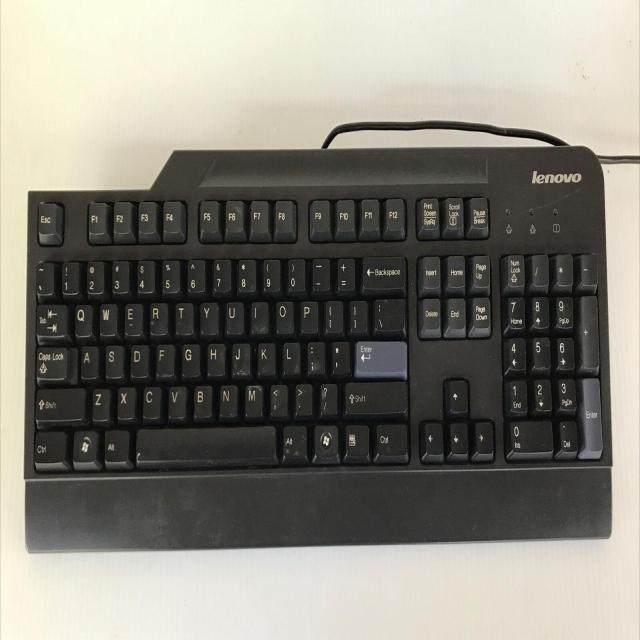keyboard: (22, 191, 615, 553)
